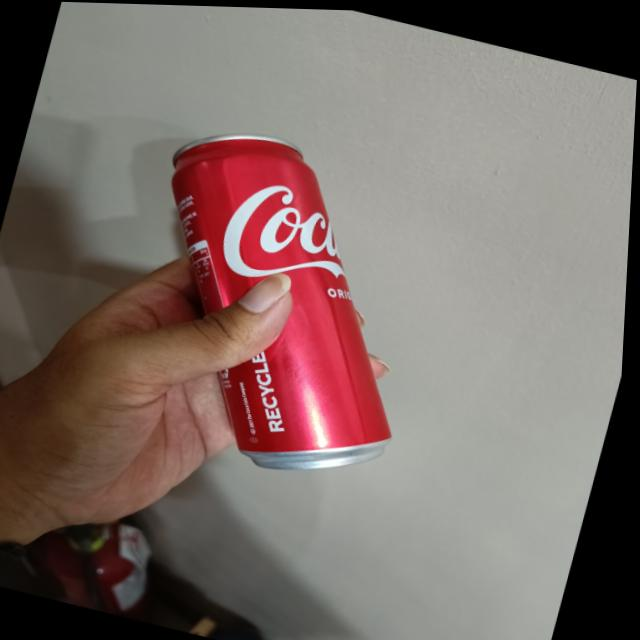coke: (106, 114, 461, 487)
